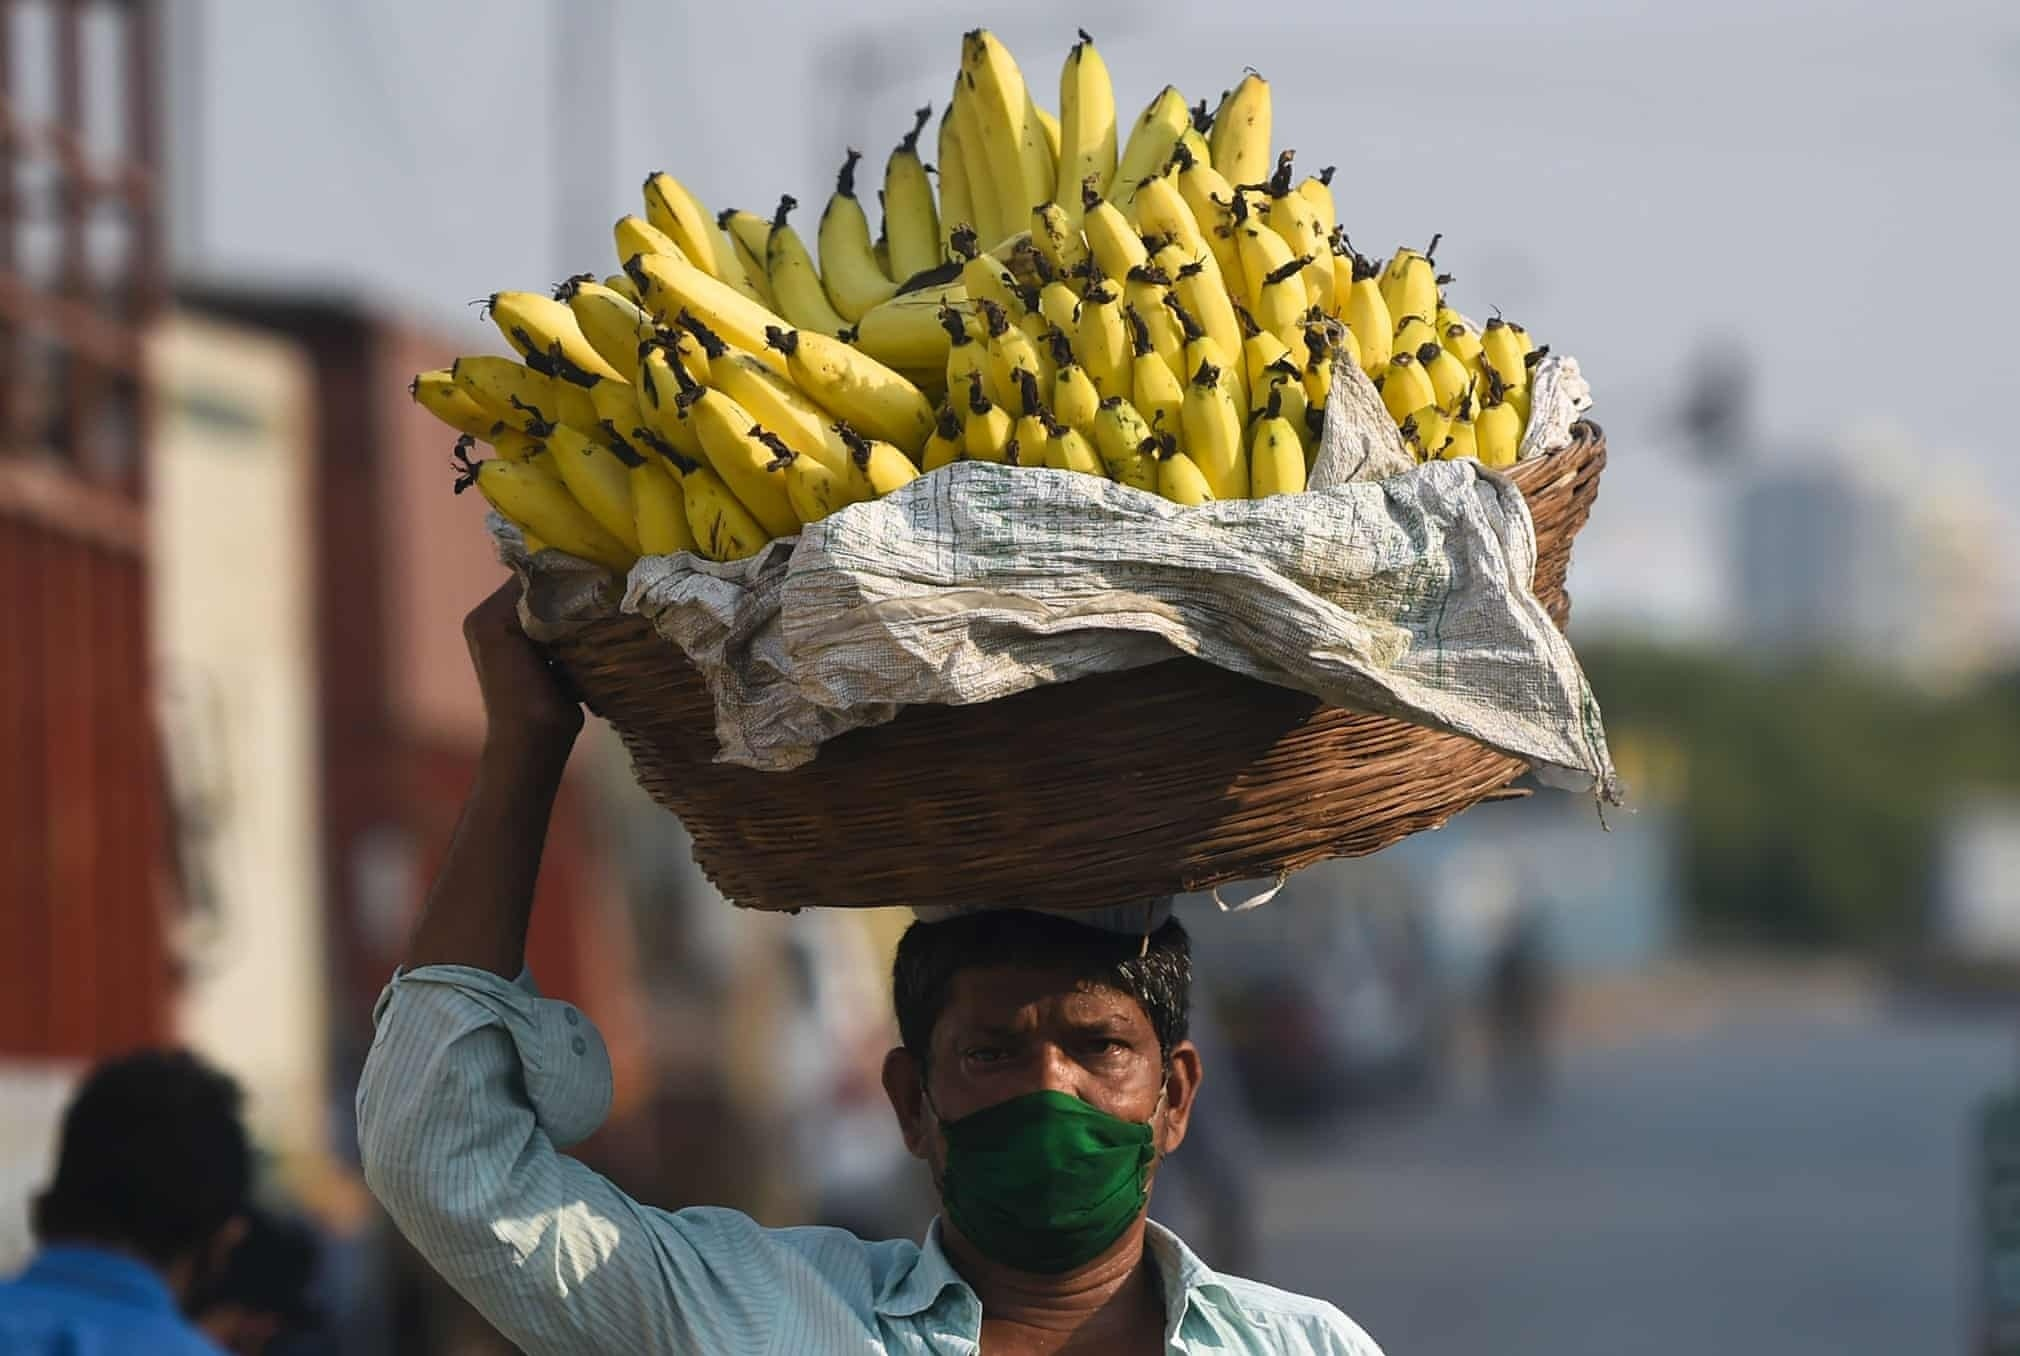face_with_mask: (876, 915, 1199, 1282)
